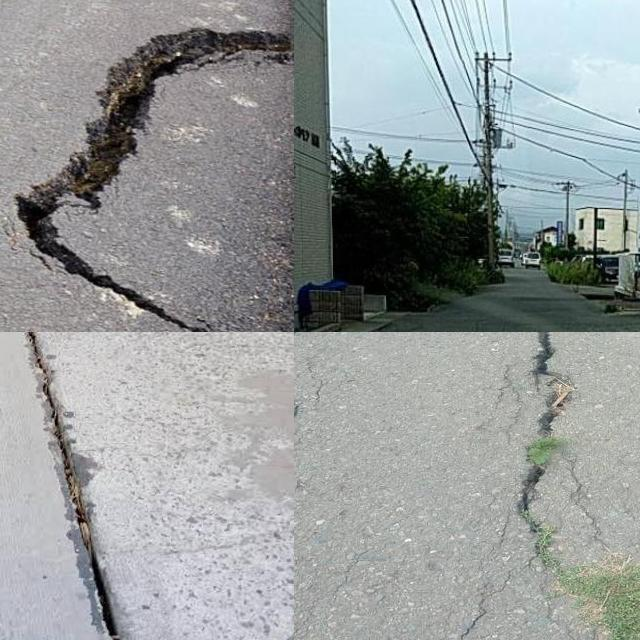Memanjang: (14, 332, 172, 640), (491, 332, 606, 612)
Pinggir: (0, 22, 294, 332)
